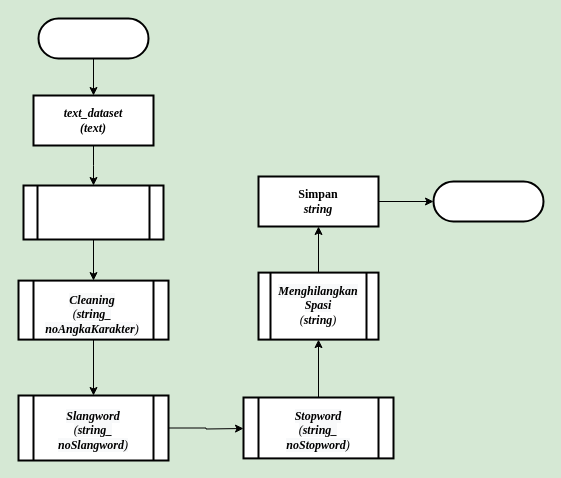
This 561x478 diagram has some shape labels left out. Each missing label, with the centre of its shape:
Casefolding ( string ): the point at 93,212
End: the point at 488,201
Start: the point at 93,38
